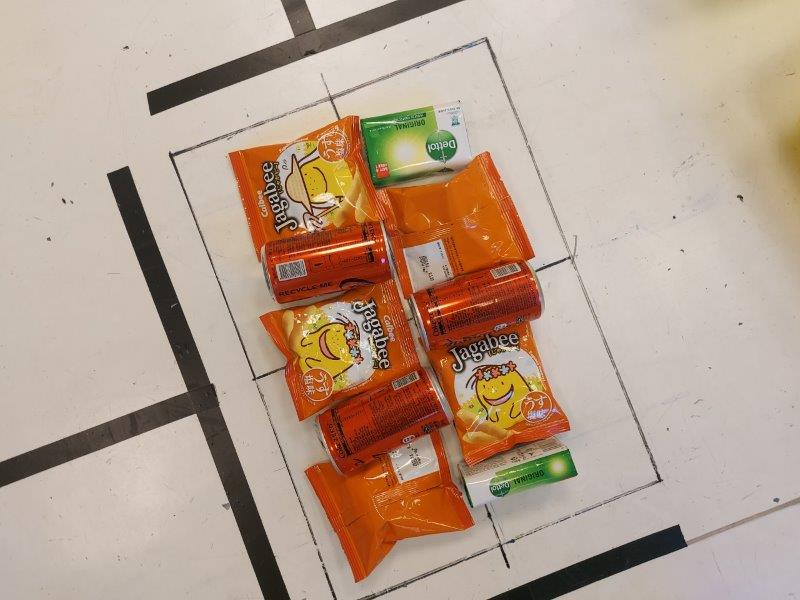Coke: (315, 366, 455, 472), (409, 260, 545, 349), (262, 221, 394, 304)
Dettol: (360, 101, 473, 186), (457, 437, 577, 507)
Jagabee: (304, 425, 474, 583), (375, 151, 536, 301), (229, 116, 384, 262), (258, 279, 417, 418), (428, 322, 570, 466)
